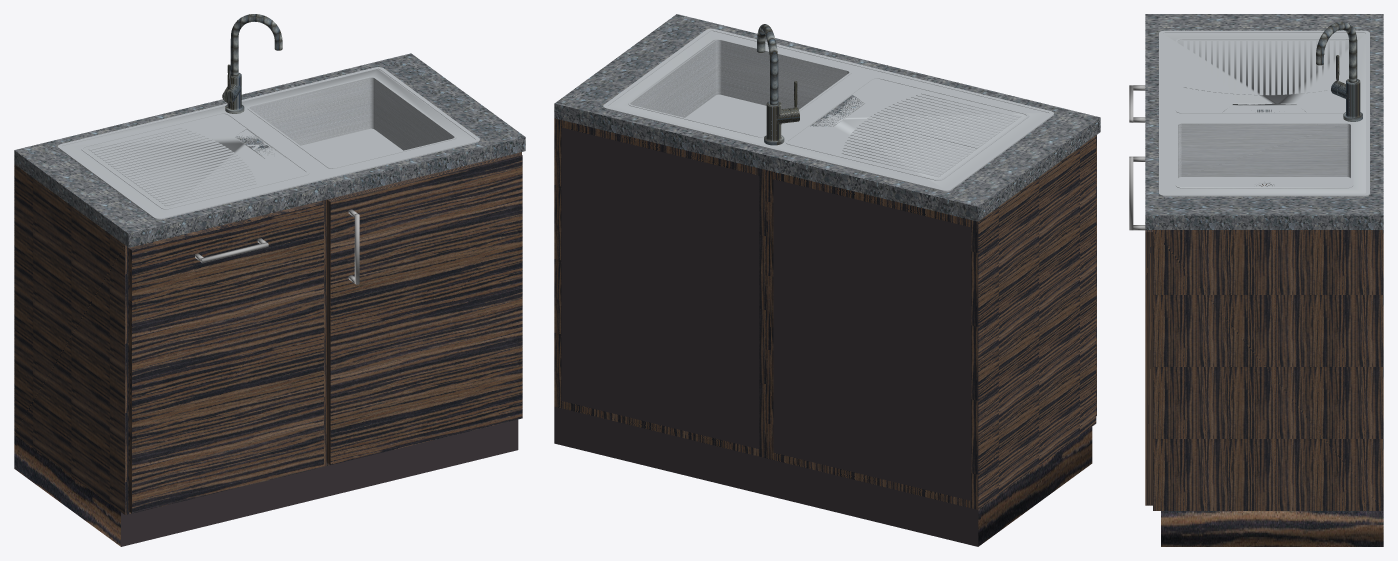
The model's file is KitchenSink.obj.
The picture shows the model from 3 angles, left to right: view 1: azimuth 30°, elevation 25°; view 2: azimuth 150°, elevation 25°; view 3: azimuth 270°, elevation 25°; orthographic projection. The views are drawn at different scales.
Parts seen in each view (by area): view 1: Door1, Door2, Sink, Cupboard, DownBoard, SinkBoard2, Board1, obj02, Handler; view 2: BackBoard2, Board2, Cupboard, Sink, DownBoard, SinkBoard2, Board1, obj02; view 3: Cupboard, Sink, Board1, DownBoard, SinkBoard2, Door1, obj02, Handler.
Part boxes in pixels (x1,y1,x2,y2): Door1: (326, 152, 522, 465); Door2: (128, 201, 323, 513); Sink: (57, 67, 479, 219); Cupboard: (14, 152, 521, 514); DownBoard: (14, 419, 518, 546); SinkBoard2: (14, 101, 327, 247); Board1: (213, 53, 525, 199); obj02: (225, 14, 282, 113); Handler: (195, 209, 359, 284); BackBoard2: (773, 179, 971, 500); Board2: (561, 127, 759, 448); Cupboard: (554, 118, 1096, 509); Sink: (603, 28, 1053, 191); DownBoard: (554, 406, 1092, 546); SinkBoard2: (766, 65, 1100, 221); Board1: (554, 14, 887, 169); obj02: (757, 24, 791, 145); Cupboard: (1153, 184, 1383, 510); Sink: (1159, 30, 1369, 196); Board1: (1145, 114, 1383, 229); DownBoard: (1161, 511, 1383, 546); SinkBoard2: (1145, 14, 1383, 114); Door1: (1145, 230, 1152, 505); obj02: (1316, 21, 1362, 121); Handler: (1129, 85, 1145, 230).
Size of the model in its own units: 29.5 by 29.62 by 15.73.
